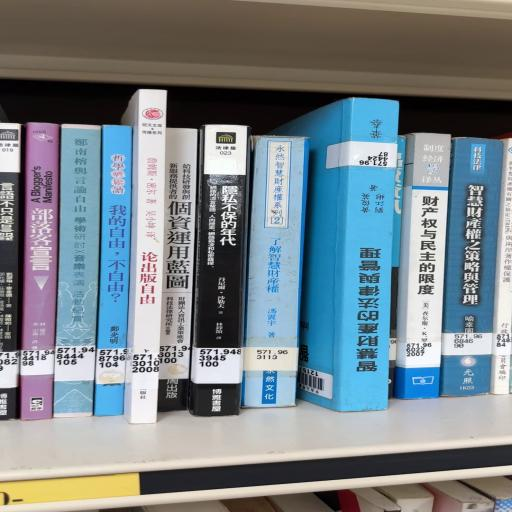book: (190, 125, 251, 417), (442, 139, 504, 397), (396, 134, 452, 400), (54, 125, 102, 419), (159, 129, 199, 412), (159, 129, 198, 412)
reverse: (271, 99, 399, 413)
